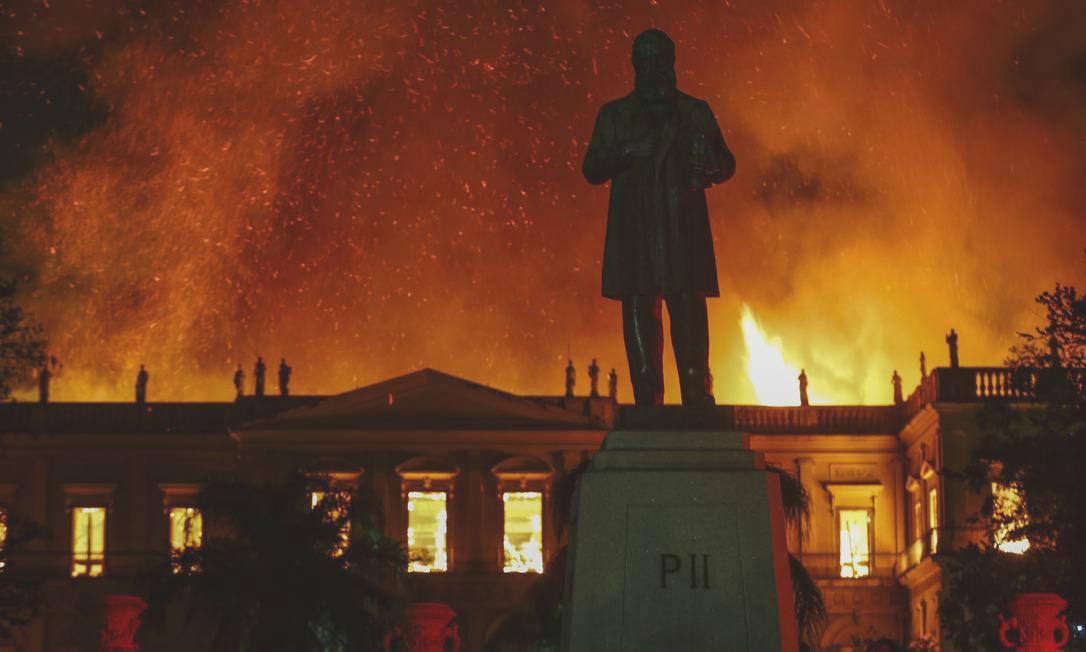Fire: (727, 293, 834, 407), (501, 488, 545, 575), (407, 492, 450, 574), (838, 512, 871, 578), (995, 523, 1034, 556)
